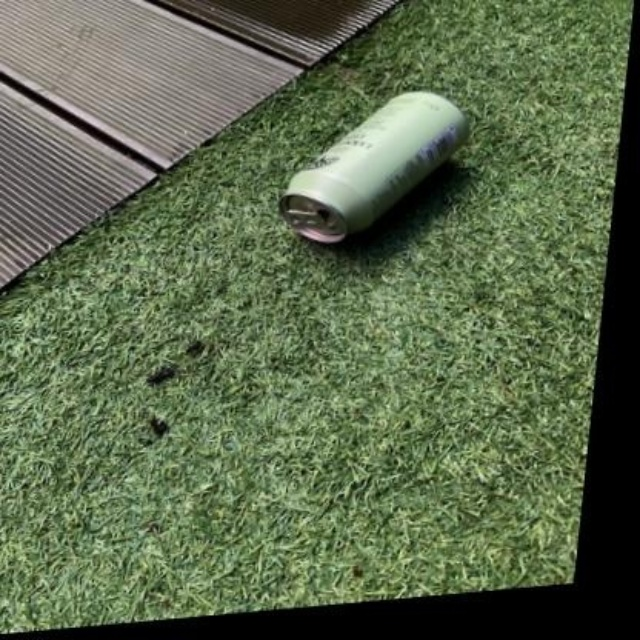trash: (280, 92, 466, 242)
